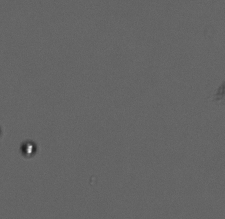Living Cell: (19, 140, 36, 157)
